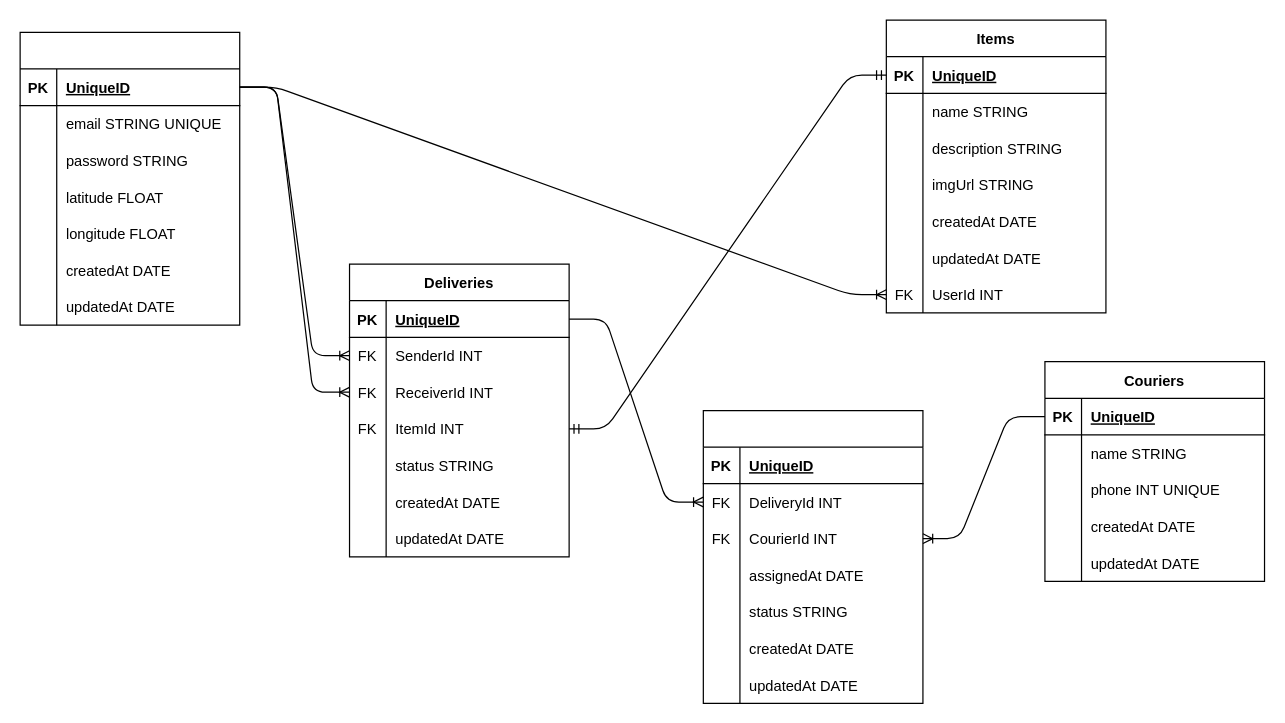
Image size: 1285x723. Some labels were removed from this diagram. The shapes that lost their labels are listed below. From the top down, each one's box as (x1, y1, x2, y2) in pixels, then its label:
(19, 31, 240, 325): Users
(702, 409, 923, 703): Delivery_Courier
